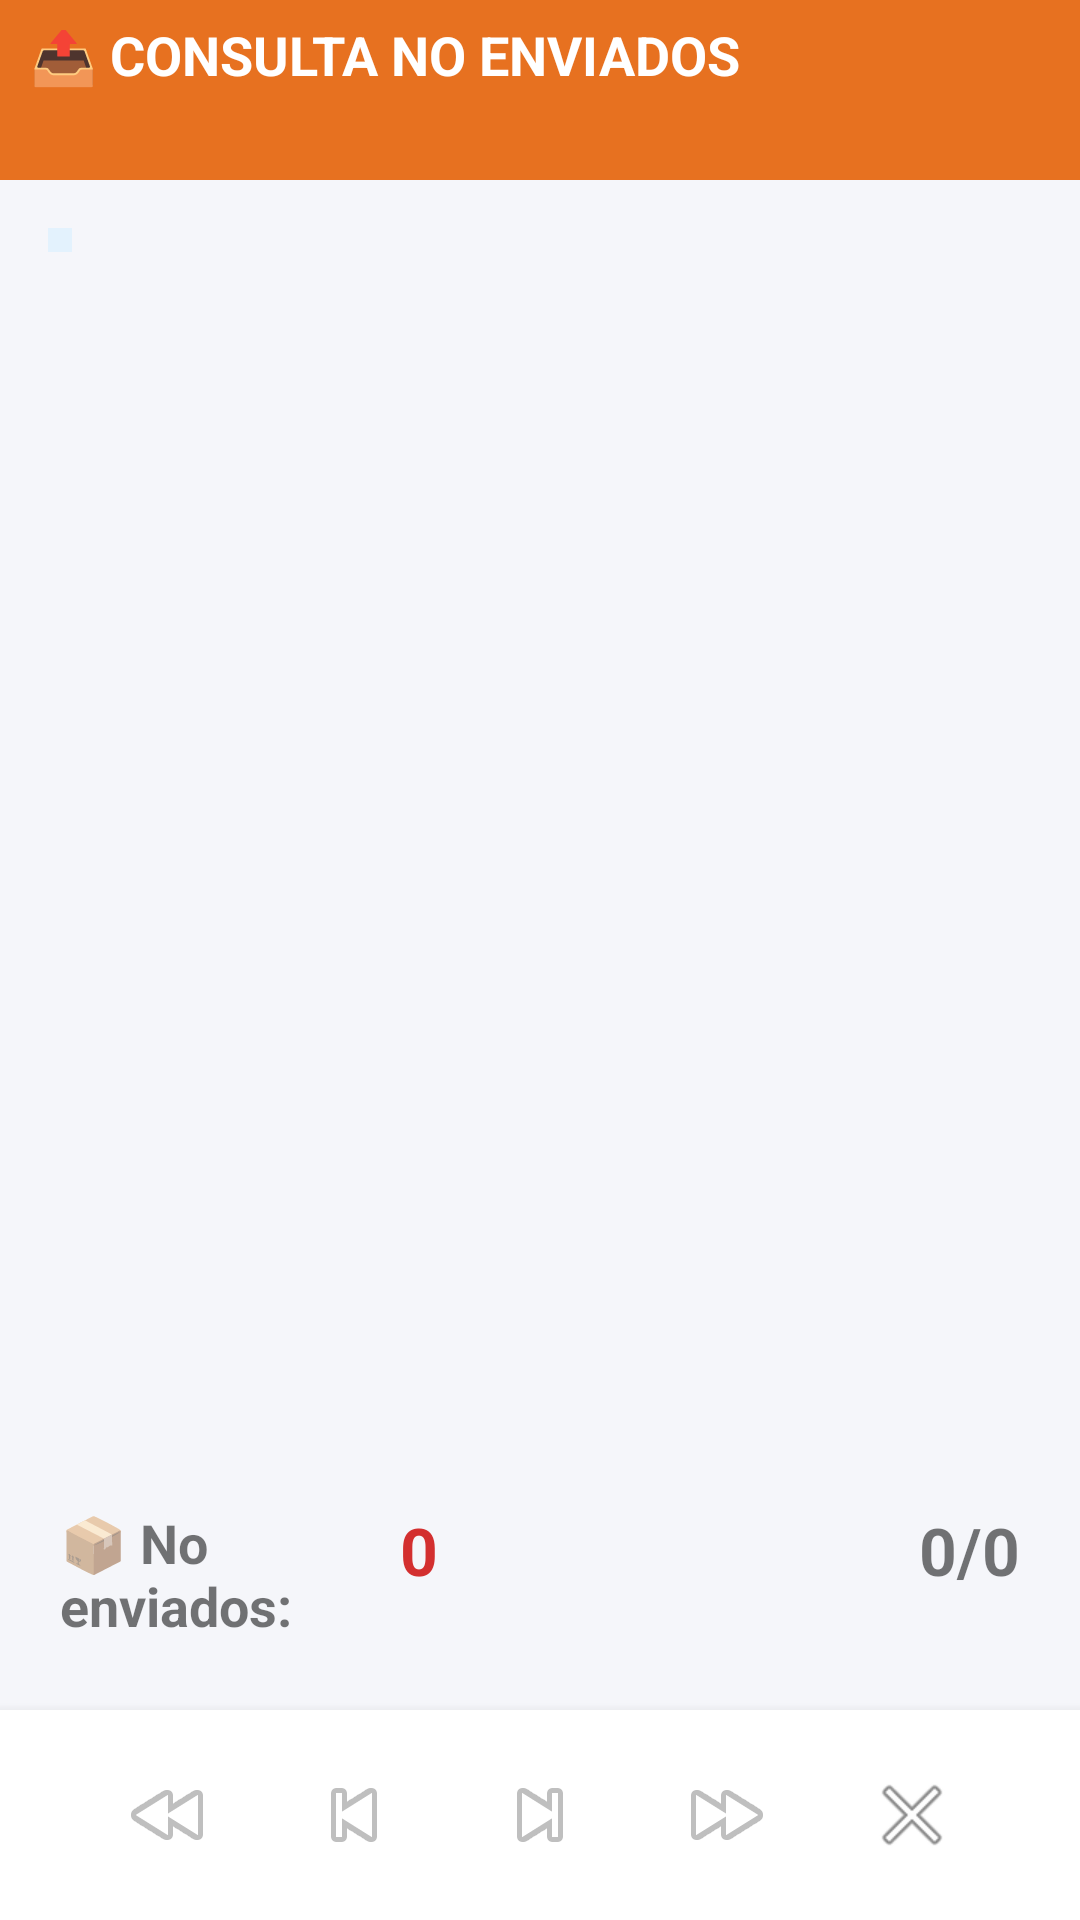

Point at icon controls on the screen. Image size 1080 × 1920, points as (x=x, y=y).
Cerrar: (x=912, y=1815)
